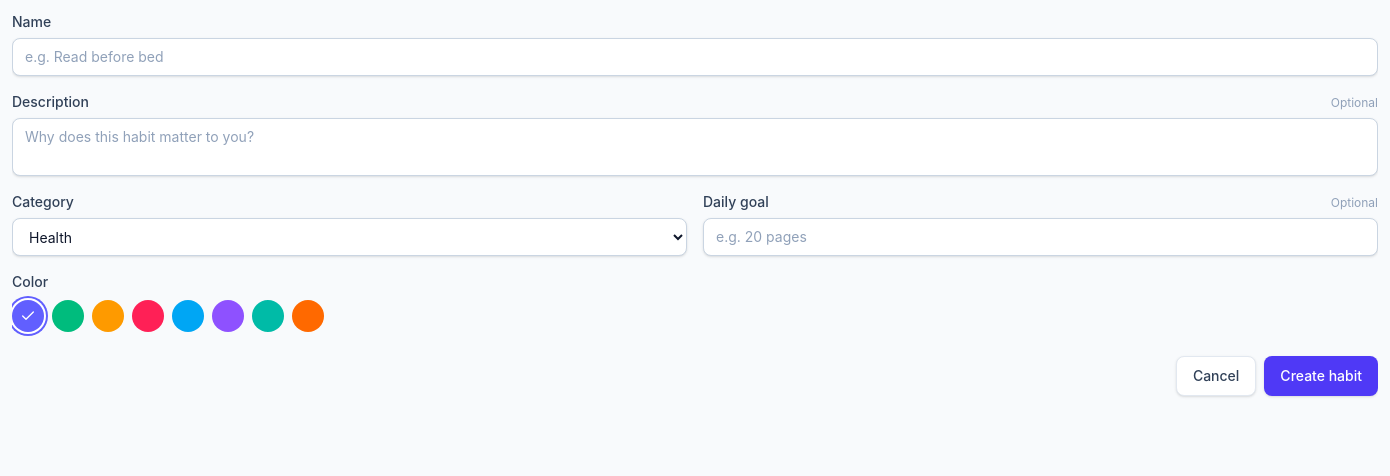
Test case: HabitForm › shows the error when saving fails
The image size is (1390, 476).
Type "Read" into the field labelled "Name".
click(695, 57); type("Read")  # box [12,38,1378,76]
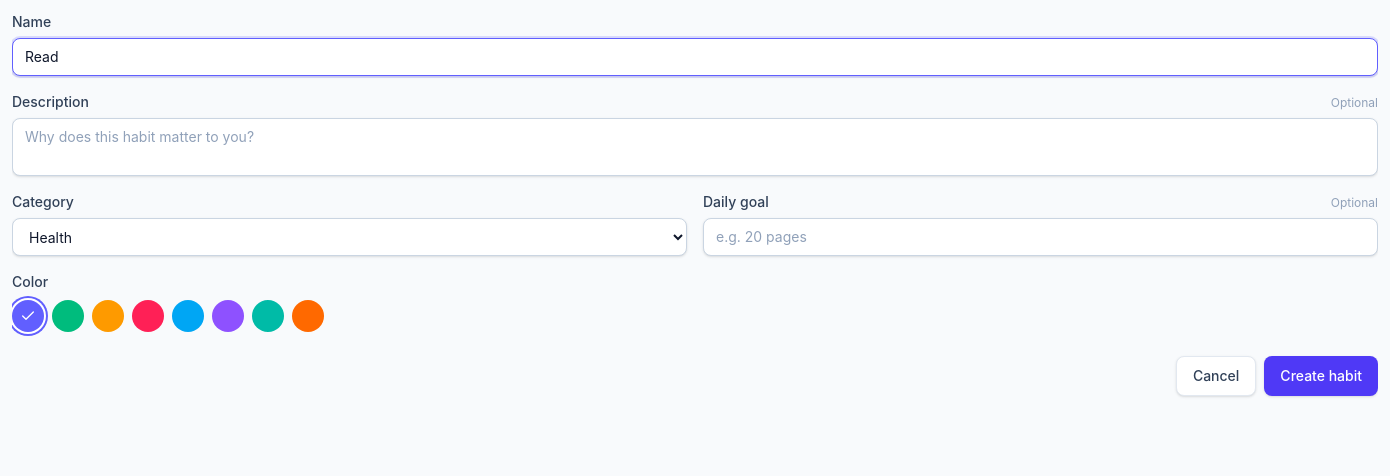
Click the button "Create habit".
click(1321, 376)  # box [1264,356,1378,396]
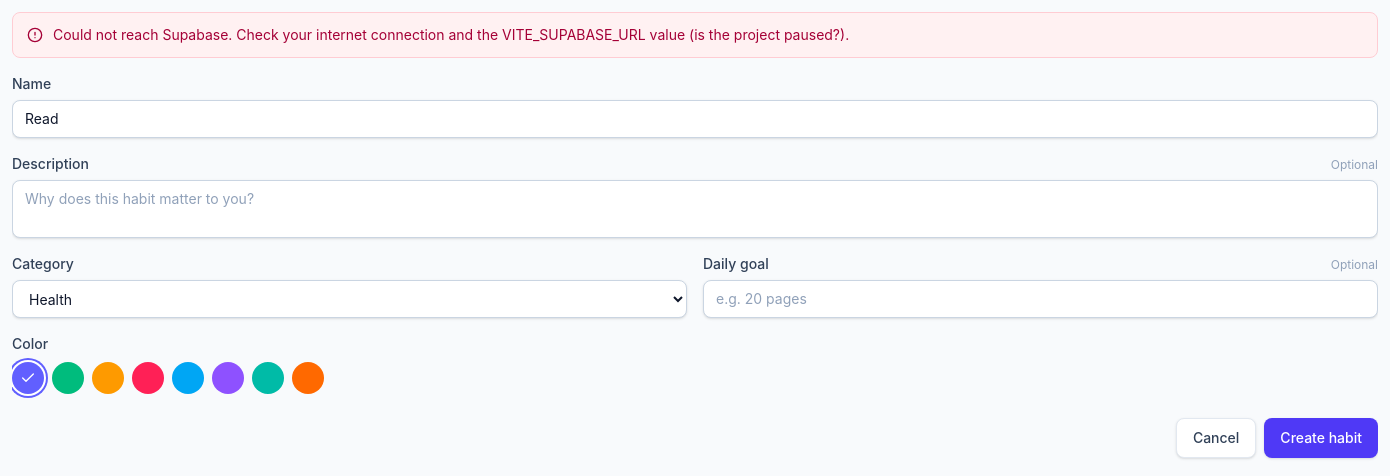
expect the message shows "Could not reach Supabase": met, box [53,26,849,43]
